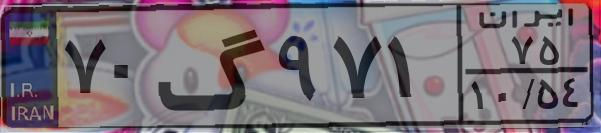0: (110, 28, 156, 98), (495, 70, 520, 125)
1: (385, 28, 445, 110), (470, 70, 495, 125)
4: (560, 70, 590, 125)
5: (537, 27, 568, 80), (535, 70, 560, 125)
7: (330, 28, 385, 110), (57, 26, 110, 100), (508, 27, 537, 80)
9: (270, 28, 330, 110)
گ: (156, 12, 270, 120)
